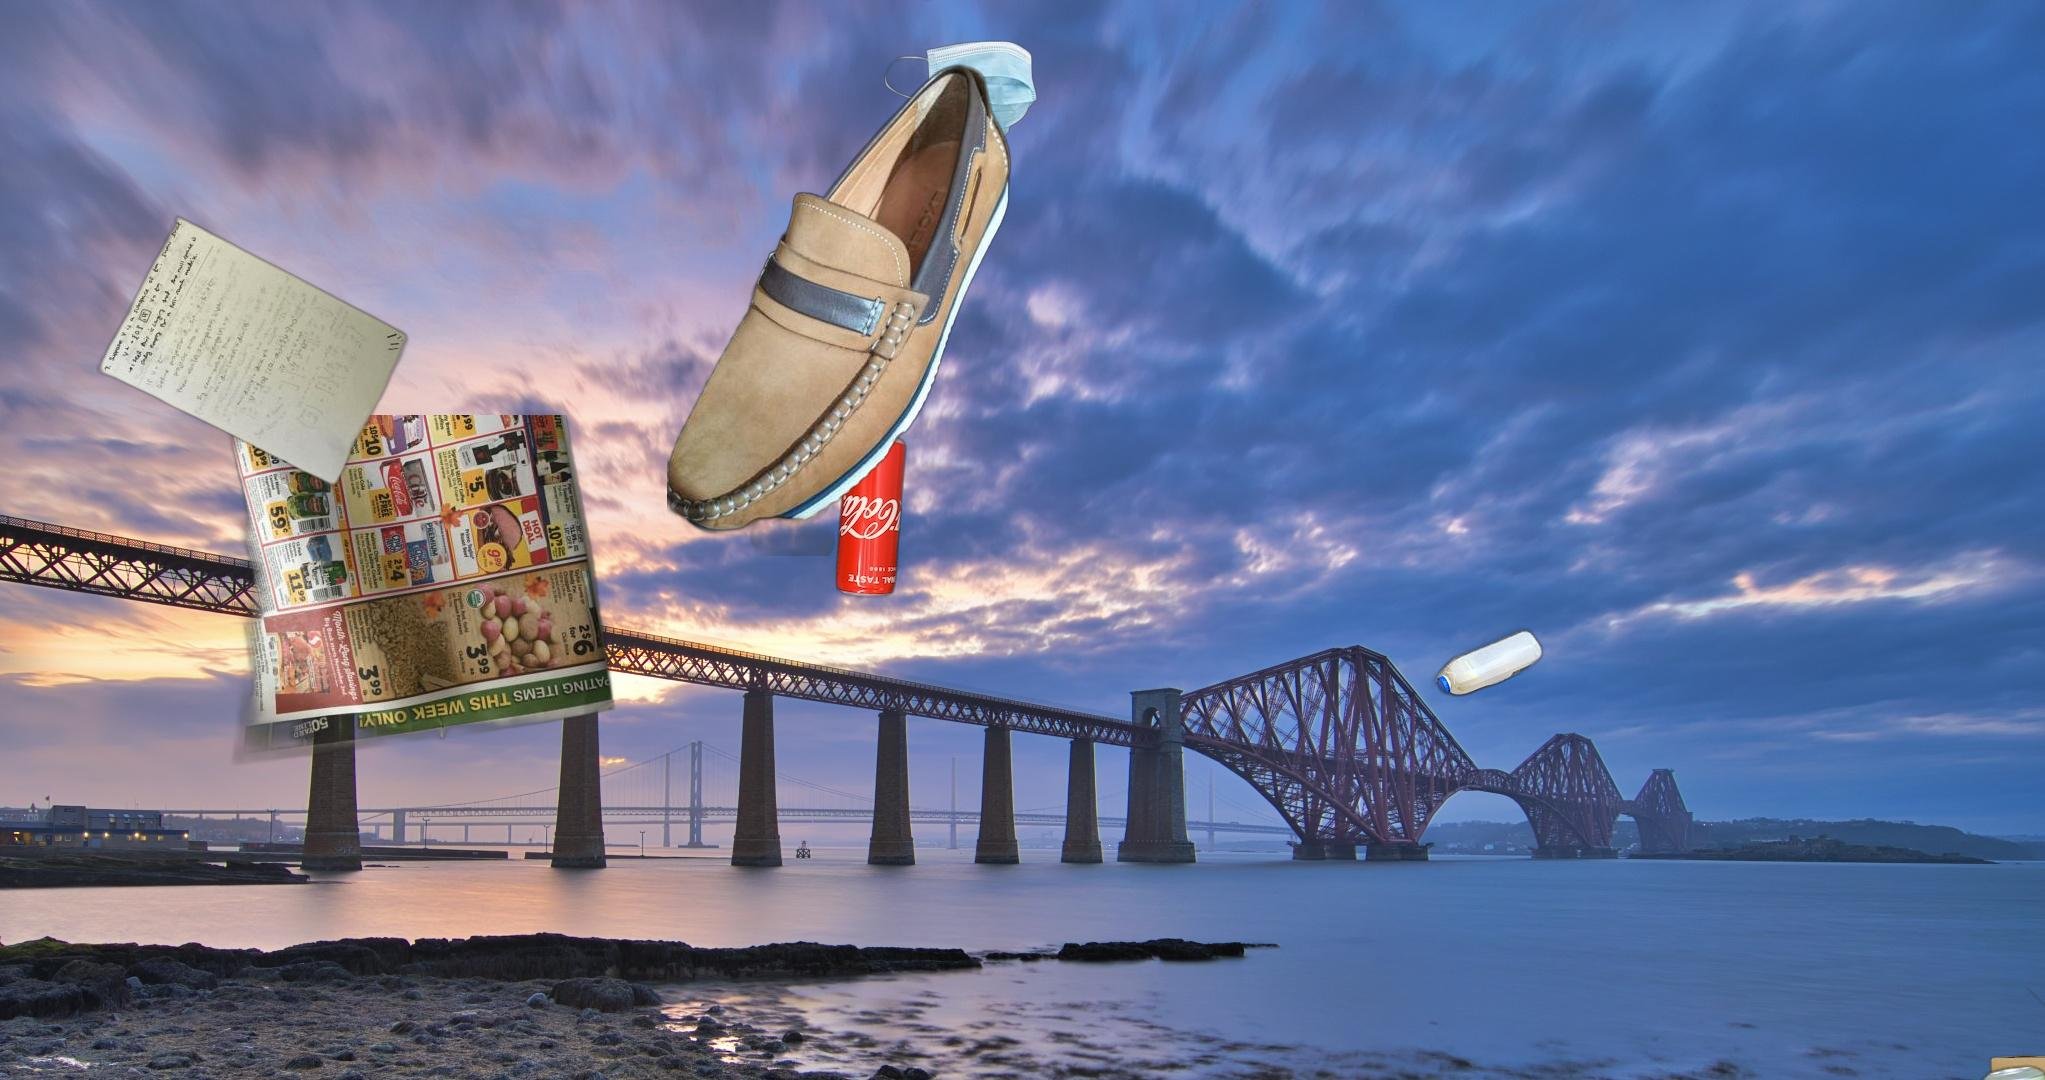metal-cans: (1632, 584, 2045, 1080), (830, 428, 910, 616)
paper: (206, 415, 619, 768), (93, 214, 413, 491)
plastic-bottles: (1420, 596, 1547, 710)
shoes: (667, 61, 1020, 556)
trash: (882, 38, 1040, 149)
trashbox-cardboard: (1879, 984, 2045, 1080)
